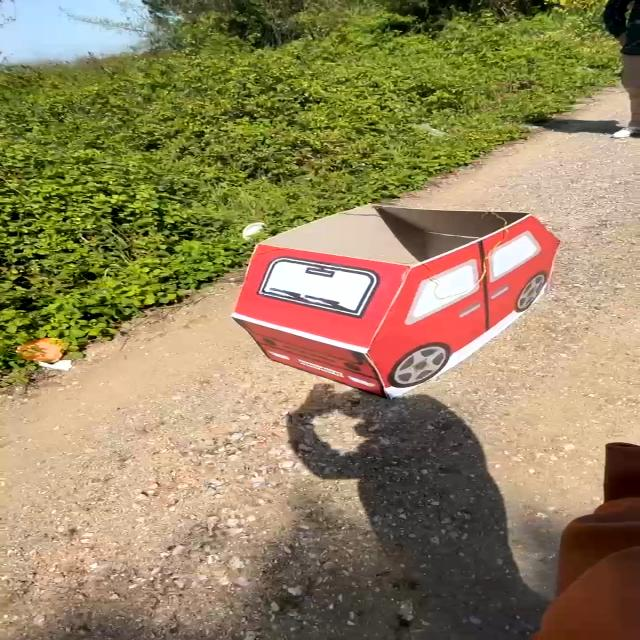red_car: (226, 190, 571, 396)
